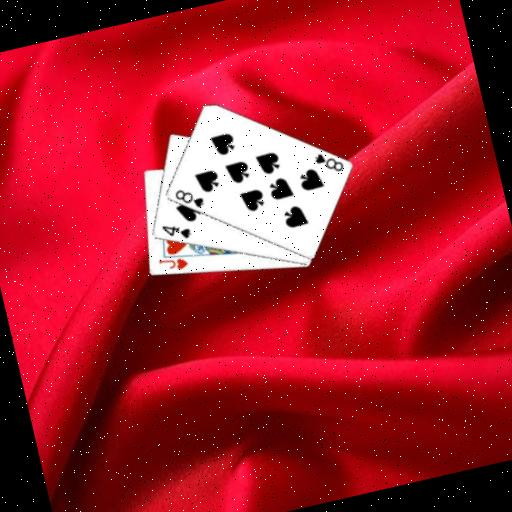4S: (158, 217, 194, 246)
8S: (171, 182, 208, 215), (310, 146, 346, 178)
JH: (155, 251, 190, 276)
